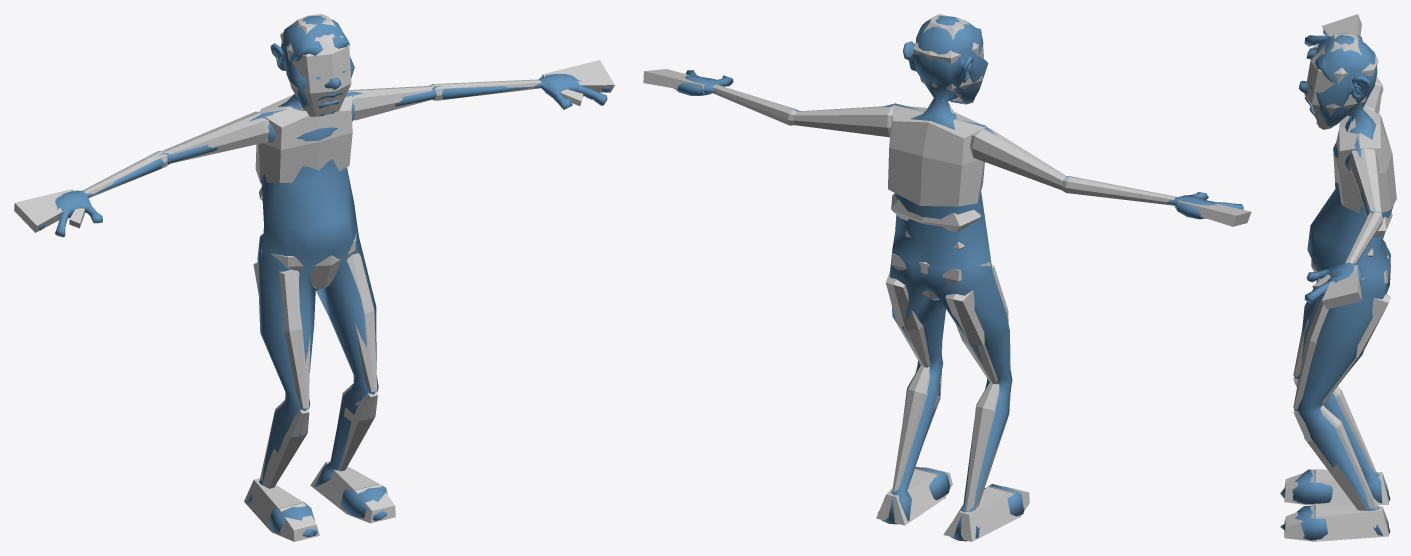
The model's file is fear.obj.
The picture shows the model from 3 angles, left to right: view 1: azimuth 30°, elevation 25°; view 2: azimuth 150°, elevation 25°; view 3: azimuth 270°, elevation 25°; orthographic projection. The views are drawn at different scales.
Visible parts, largest first — view 1: BodyMaquette_lowpoly_body, Ludwig_meLudwig; view 2: BodyMaquette_lowpoly_body, Ludwig_meLudwig; view 3: Ludwig_meLudwig, BodyMaquette_lowpoly_body.
Boxes of the visible parts, bbox=[...] form: BodyMaquette_lowpoly_body: bbox=[14, 14, 614, 541]; Ludwig_meLudwig: bbox=[39, 16, 609, 537]; BodyMaquette_lowpoly_body: bbox=[643, 14, 1251, 541]; Ludwig_meLudwig: bbox=[673, 16, 1243, 541]; Ludwig_meLudwig: bbox=[1280, 29, 1393, 540]; BodyMaquette_lowpoly_body: bbox=[1284, 14, 1396, 541].
Bounding box in the file's own units: 17.03 × 13.63 × 3.02.
